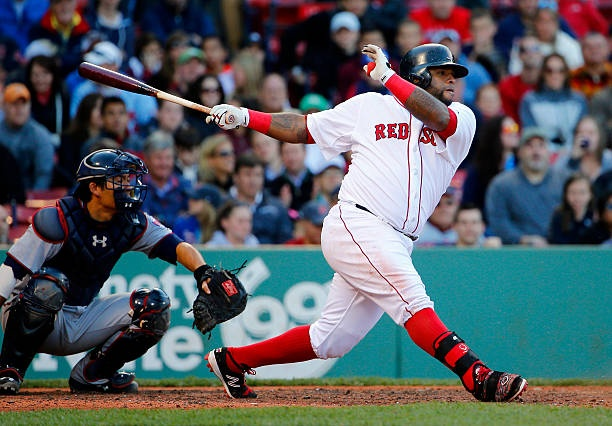bita: (77, 58, 236, 123)
